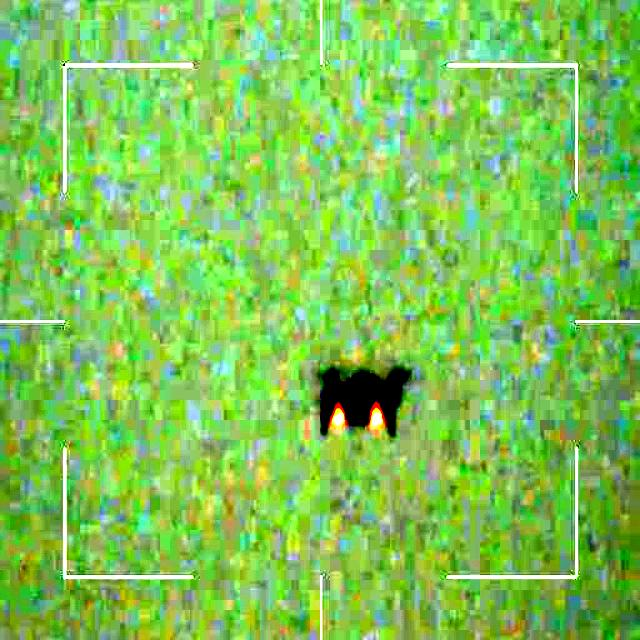bird: (318, 368, 411, 435)
